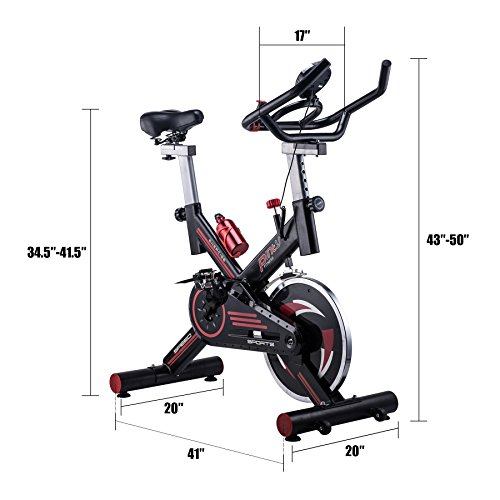gym_bike: (113, 65, 403, 454)
